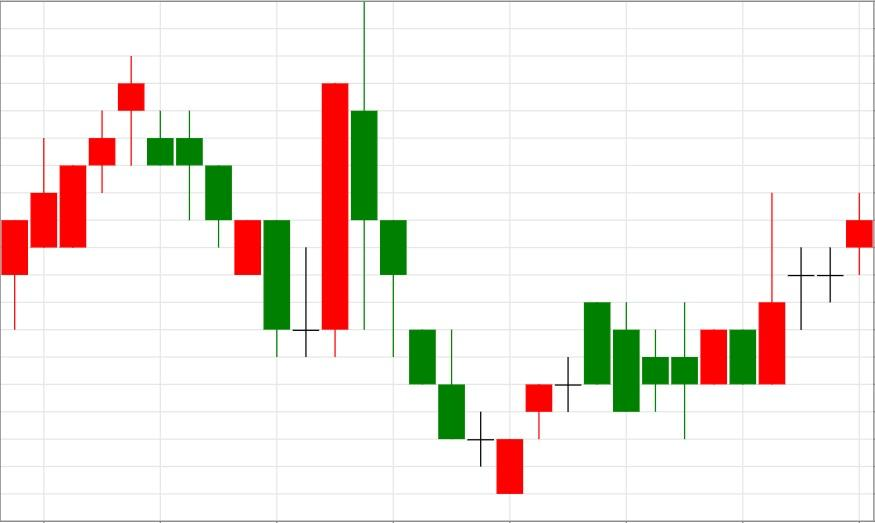morning_star_rise: (117, 55, 350, 357)
three_black_crows_fall: (263, 0, 436, 385)
